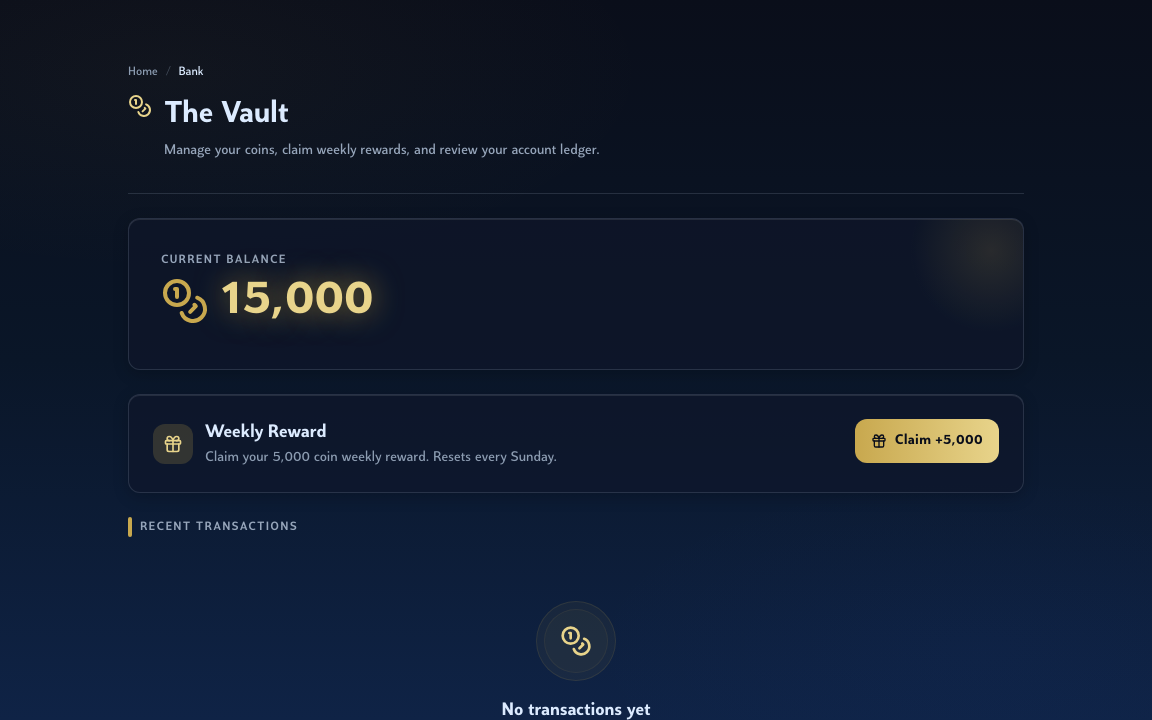
Test: BankPage error copy (Equoria-du71v) › a failed claim shows class-mapped copy (never the raw server text) and re-reads the status
This screenshot has width=1152, height=720.
Expected: the text "Claim your 5,000 coin weekly reward. Resets every Sunday." is shown, x1=205 y1=448 x2=557 y2=468
Click the button with test id "claim-button".
click(927, 441)  # box x1=855 y1=419 x2=999 y2=463
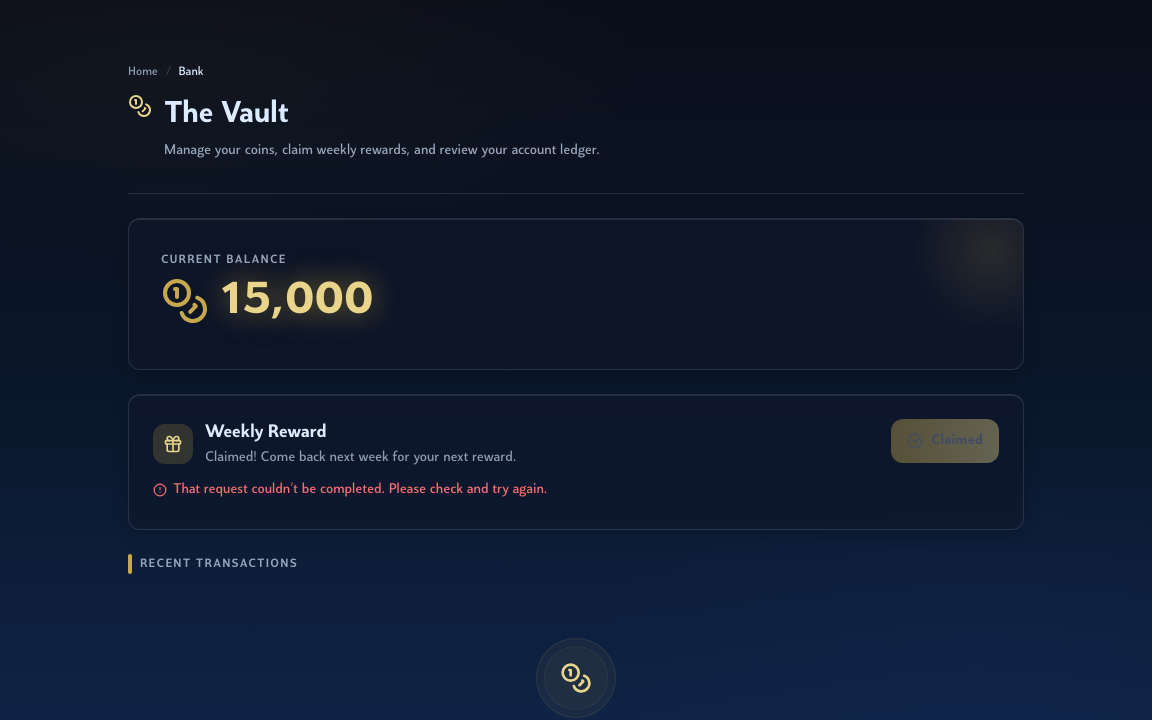
Now the message reads "That request couldn't be completed. Please check and try again.", box x1=173 y1=482 x2=547 y2=497
Now the text "Claimed! Come back next week for your next reward." is shown, box x1=205 y1=448 x2=516 y2=468
